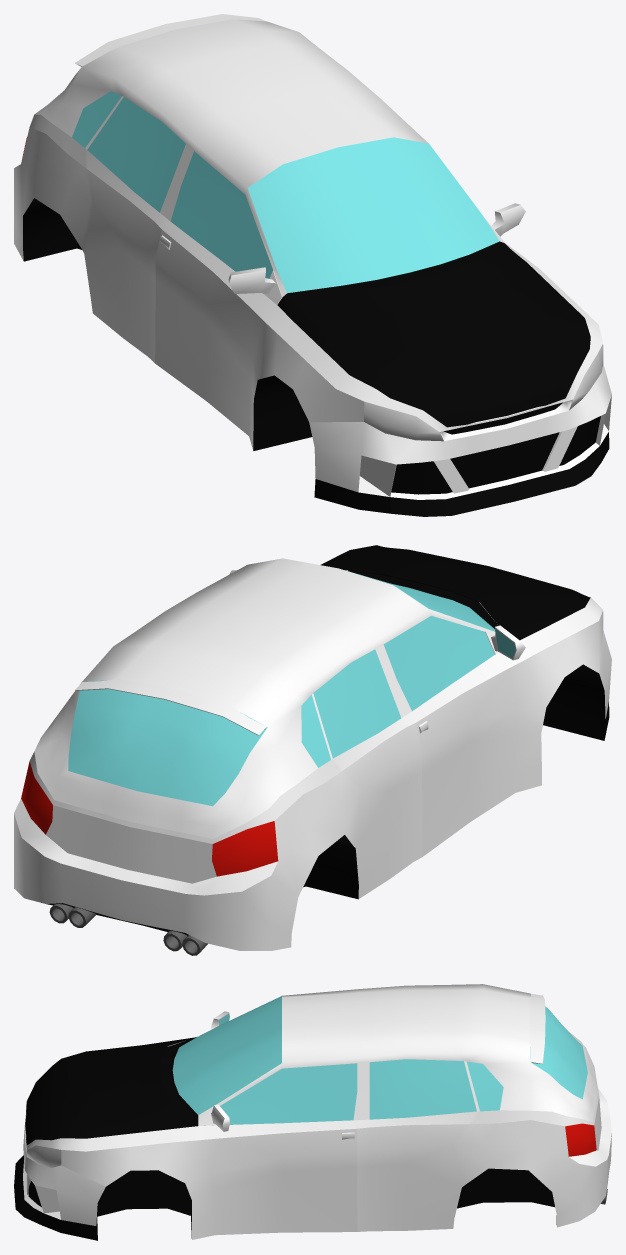
Rendered from gc14_body_kit2.glb.
3 renders of one model, top to bottom at view 1: azimuth 30°, elevation 25°; view 2: azimuth 150°, elevation 25°; view 3: azimuth 270°, elevation 25°, orthographic. The views are drawn at different scales.
Parts seen in each view (by area): view 1: Body_Kit2; view 2: Body_Kit2; view 3: Body_Kit2.
Boxes of the visible parts, x1=… form: Body_Kit2: x1=14, y1=14, x2=611, y2=516; Body_Kit2: x1=14, y1=545, x2=611, y2=955; Body_Kit2: x1=14, y1=984, x2=611, y2=1240.
Bounding box in the file's own units: 1.97 × 1.49 × 4.52.
